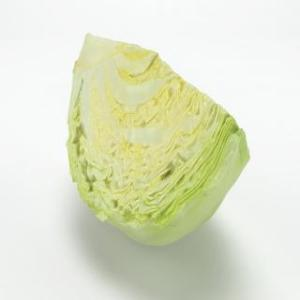cabbage: (63, 31, 248, 252)
